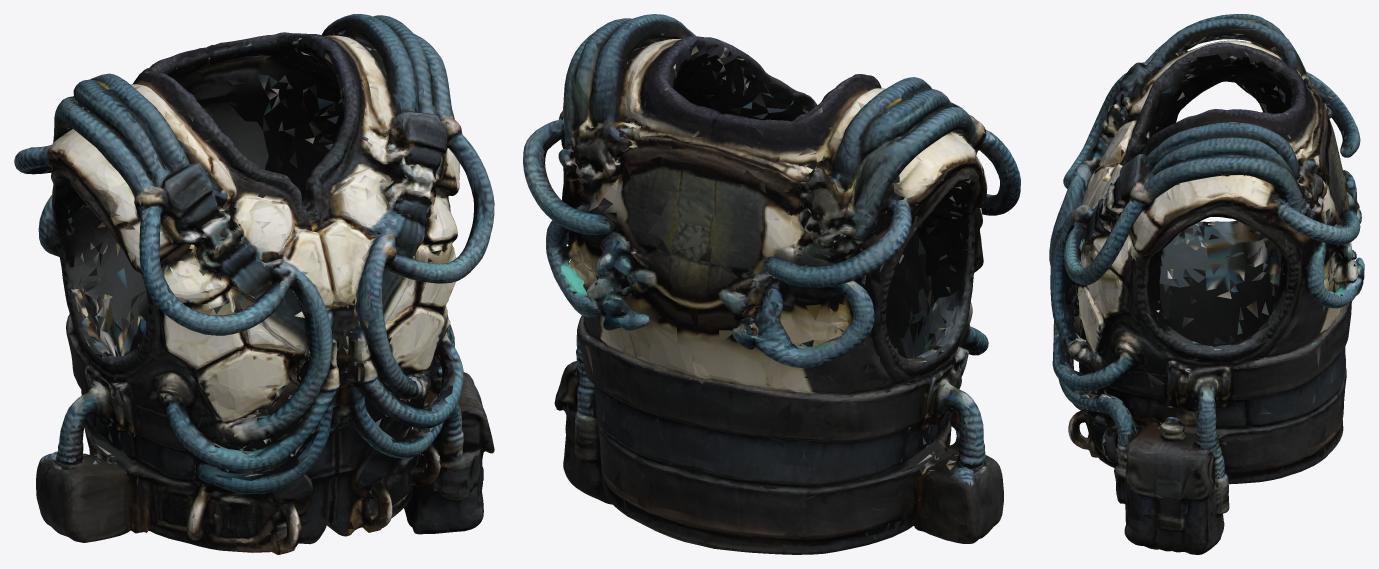
Rendered from cooling-gear-vest.glb.
3 views of the same model, side by side, from view 1: azimuth 30°, elevation 25°; view 2: azimuth 150°, elevation 25°; view 3: azimuth 270°, elevation 25° (orthographic). The views are drawn at different scales.
Parts seen in each view (by area): view 1: geometry_0; view 2: geometry_0; view 3: geometry_0.
Boxes of the visible parts, x1,y1,x2,y2 form: geometry_0: (14, 14, 494, 554); geometry_0: (523, 14, 1020, 554); geometry_0: (1049, 14, 1364, 554).
Bounding box in the file's own units: 1.84 × 2 × 1.4.
Materials: 1 (1 with a texture image).
